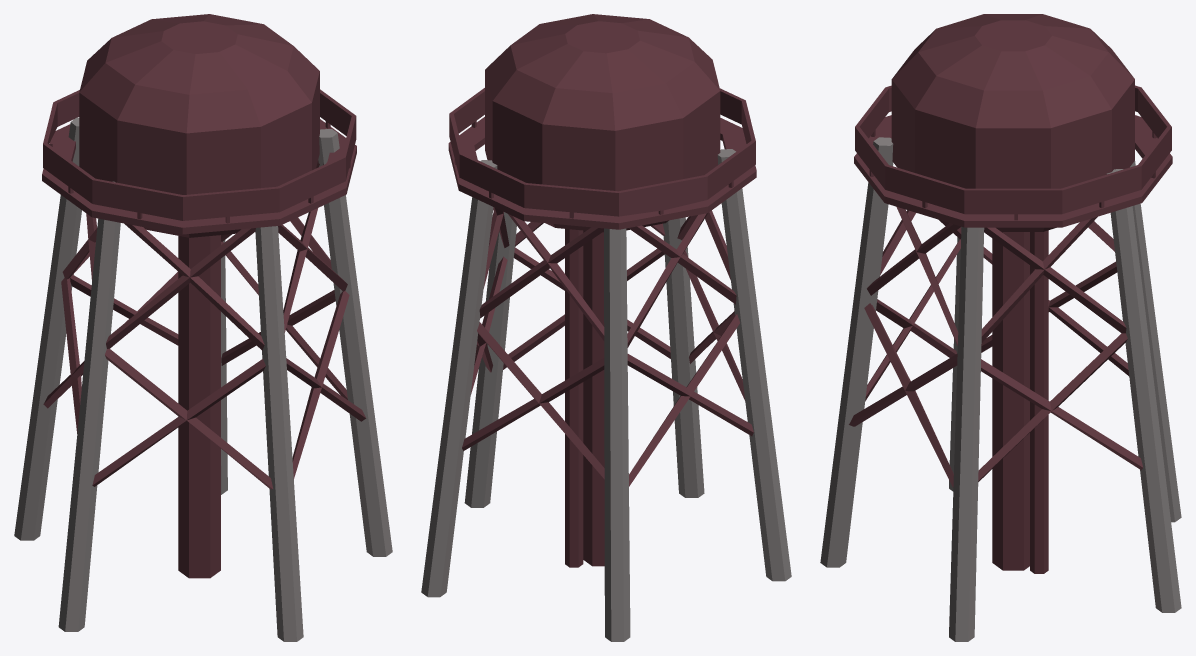
Rendered from water-tower-medium.fbx.
The picture shows the model from 3 angles, left to right: view 1: azimuth 30°, elevation 25°; view 2: azimuth 150°, elevation 25°; view 3: azimuth 270°, elevation 25°; orthographic projection. The views are drawn at different scales.
Visible parts, largest first — view 1: water-tower-medium; view 2: water-tower-medium; view 3: water-tower-medium.
Boxes of the visible parts, x1,y1,x2,y2 form: water-tower-medium: (14,14,392,641); water-tower-medium: (421,14,791,641); water-tower-medium: (820,14,1181,641).
Bounding box in the file's own units: 10.18 × 15.83 × 9.83.
